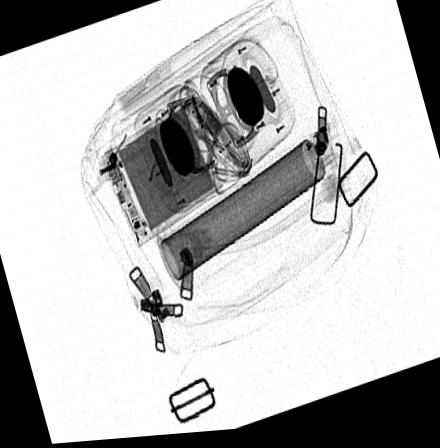Powerbank: (100, 99, 220, 251)
